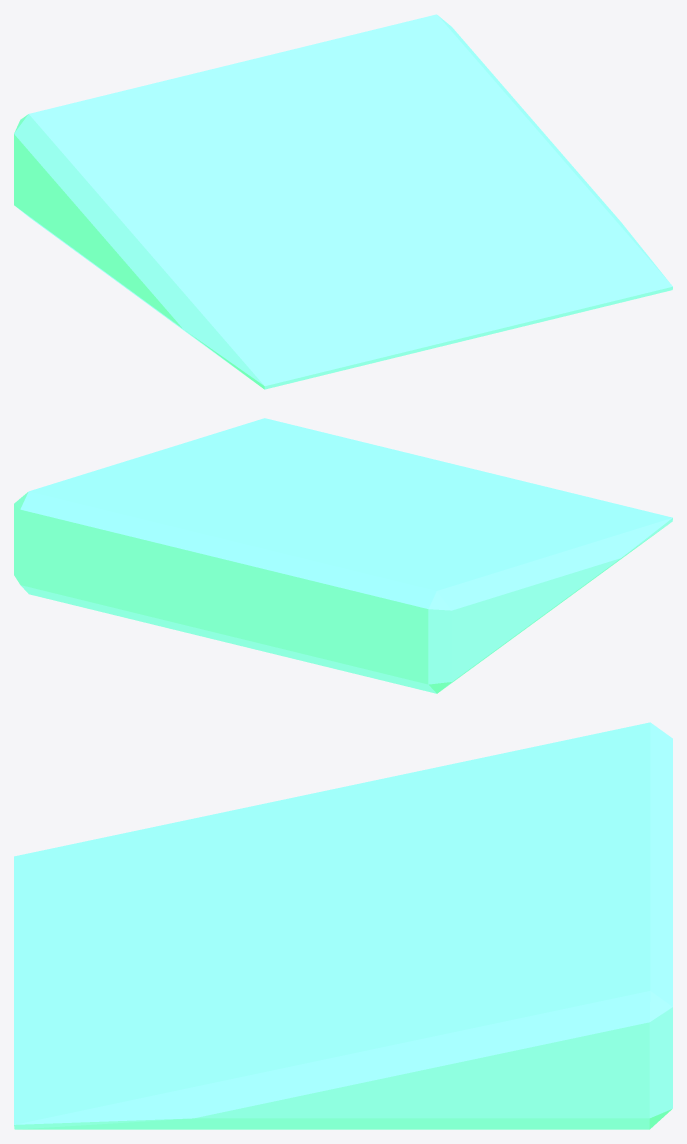
Rendered from Ramp2.fbx.
3 renders of one model, top to bottom at view 1: azimuth 30°, elevation 25°; view 2: azimuth 150°, elevation 25°; view 3: azimuth 270°, elevation 25°, orthographic. The views are drawn at different scales.
Parts seen in each view (by area): view 1: Ramp2; view 2: Ramp2; view 3: Ramp2.
Boxes of the visible parts, box(x1,y1,x2,y2) form: Ramp2: box(14, 14, 672, 389); Ramp2: box(14, 418, 672, 693); Ramp2: box(14, 722, 672, 1129).
Size of the model in its own units: 13.71 by 3.08 by 13.26.
